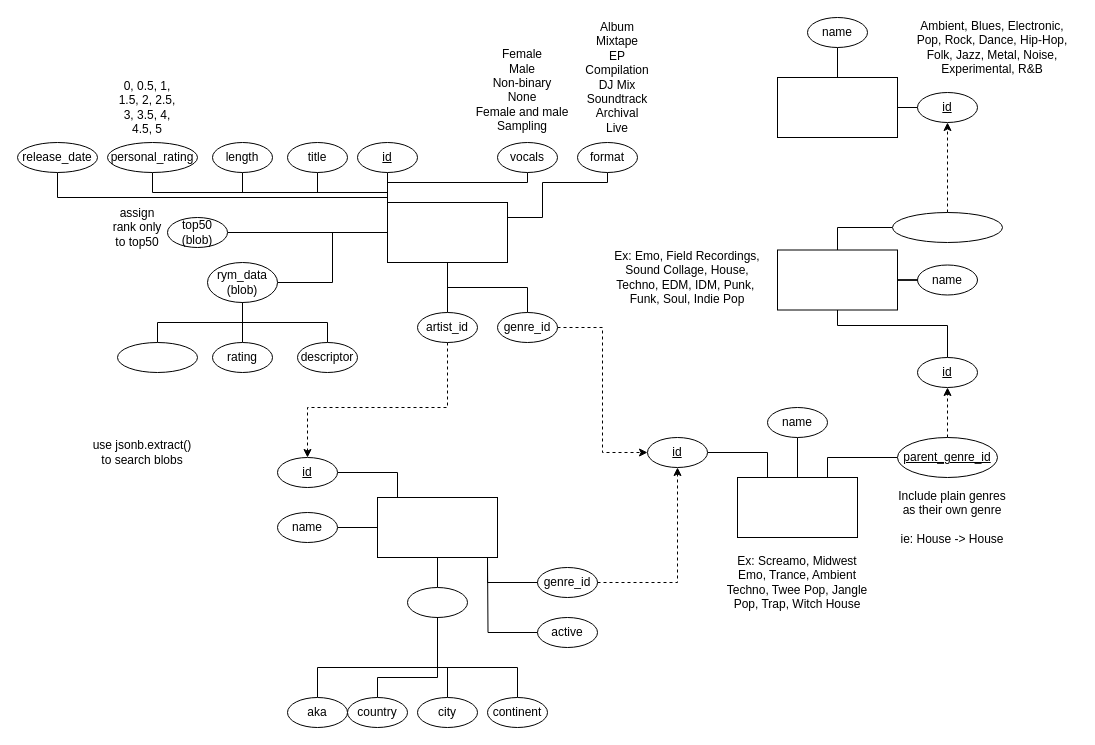
Image size: 1095x745. Some labels were removed from this diagram. Here are the shapes that lost their labels. From the top down, the centre of each, then its label:
At point 837,107: "Root_genre".
At point 447,232: "Album".
At point 947,227: "root_genre_id".
At point 837,279: "Parent_genre".
At point 157,357: "num_ratings".
At point 437,527: "Artist".
At point 797,507: "Genre".
At point 437,602: "details (blob)".
